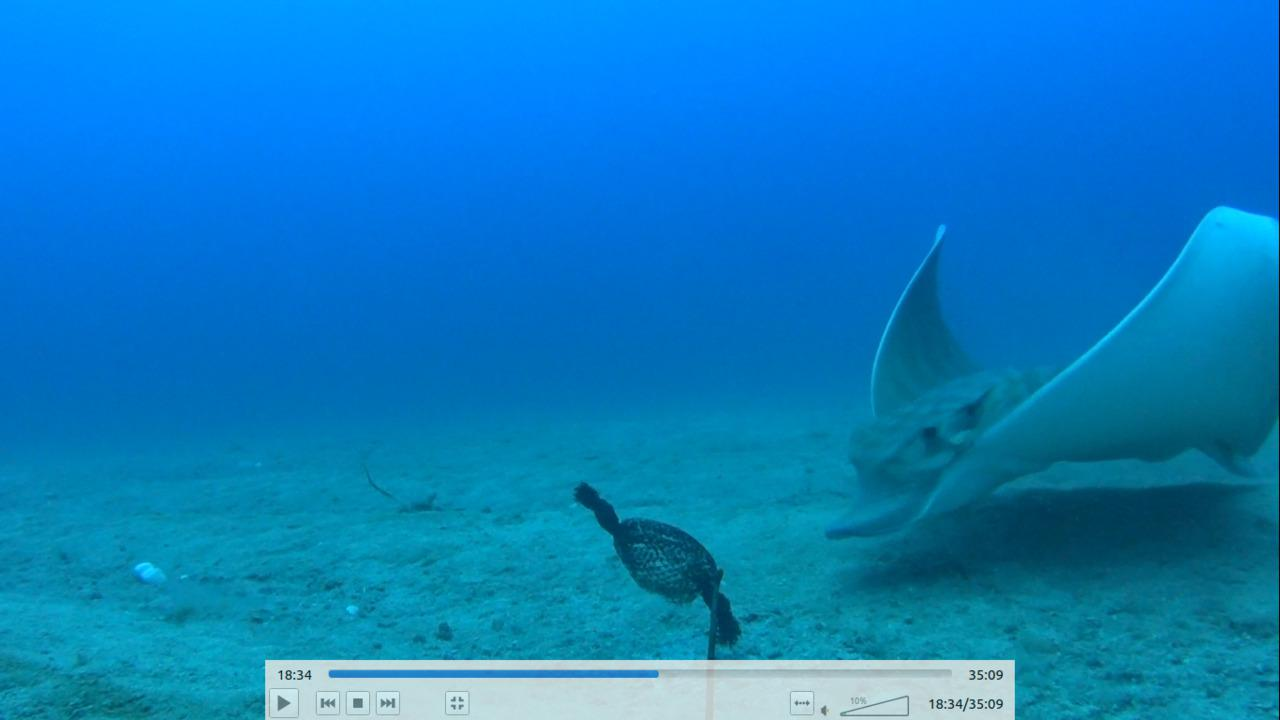myliobatis: (820, 194, 1279, 548)
